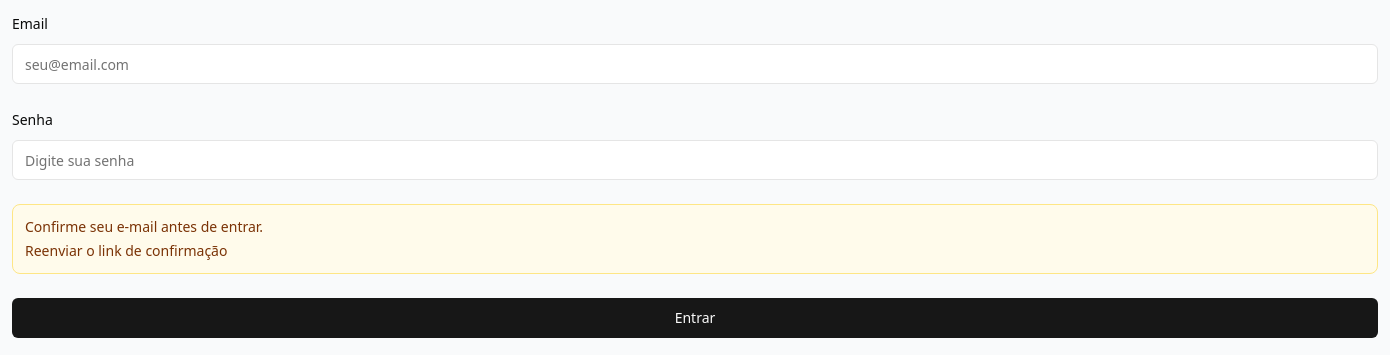
Test: LoginForm Component › offers to resend the confirmation link when the e-mail is not confirmed
The image size is (1390, 355).
Type "ana@exemplo.com" into the field labelled "Email" at (695, 64), box [12, 44, 1378, 84]
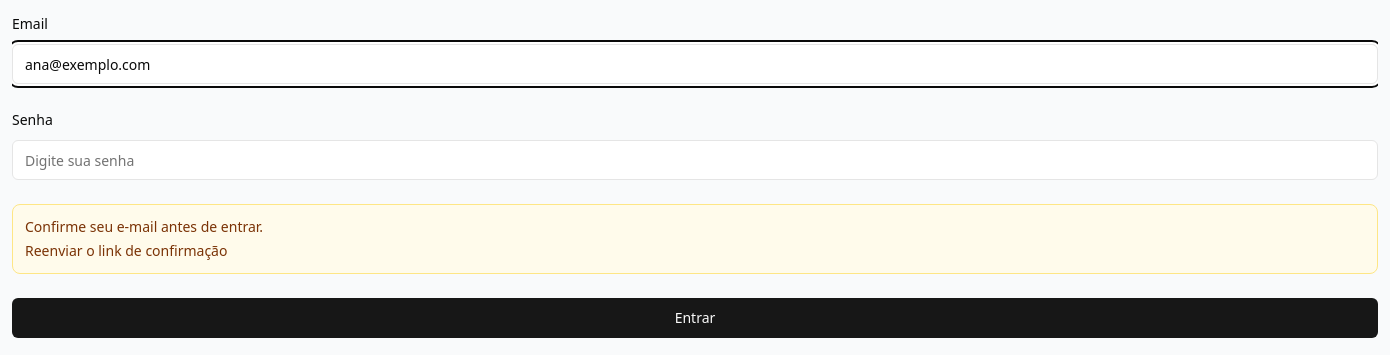
Expected: the message shows "Confirme seu e-mail antes de entrar.", [25, 217, 263, 236]
Click the button "Reenviar o link de confirmação" at (126, 251), box [25, 241, 228, 261]
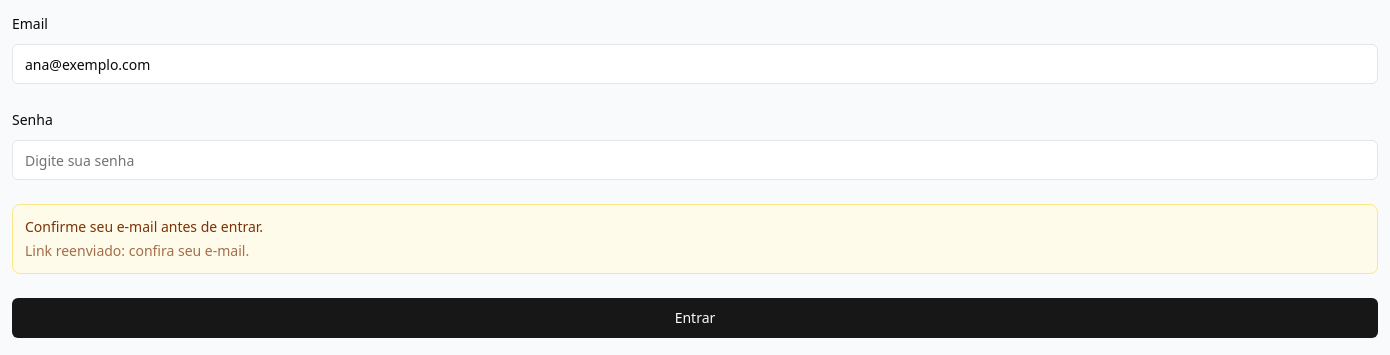
Expected: the button "Link reenviado: confira seu e-mail." is shown, [25, 241, 249, 261]
